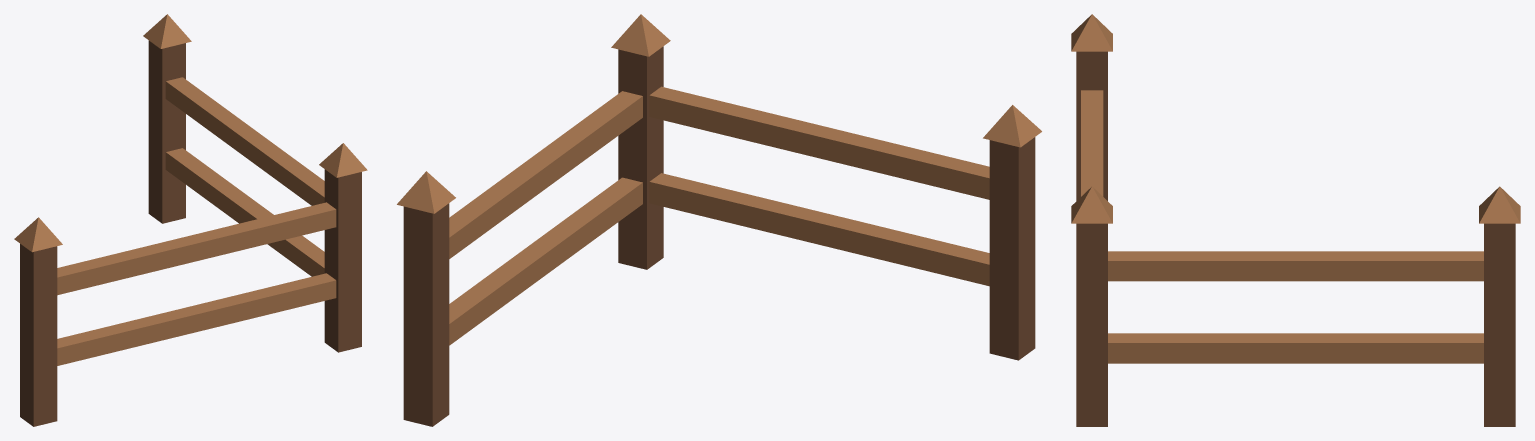
File: roh-plotu.glb
The picture shows the model from 3 angles, left to right: view 1: azimuth 30°, elevation 25°; view 2: azimuth 150°, elevation 25°; view 3: azimuth 270°, elevation 25°; orthographic projection. The views are drawn at different scales.
Visible parts, largest first — view 1: material_ad7950, material_785239; view 2: material_ad7950, material_785239; view 3: material_ad7950, material_785239.
Boxes of the visible parts, x1,y1,x2,y2 form: material_ad7950: [14, 14, 367, 365]; material_785239: [20, 40, 361, 426]; material_ad7950: [397, 14, 1041, 345]; material_785239: [403, 46, 1035, 426]; material_ad7950: [1071, 14, 1520, 363]; material_785239: [1076, 51, 1515, 426].
Size of the model in its own units: 1.98 by 1.14 by 1.98.
